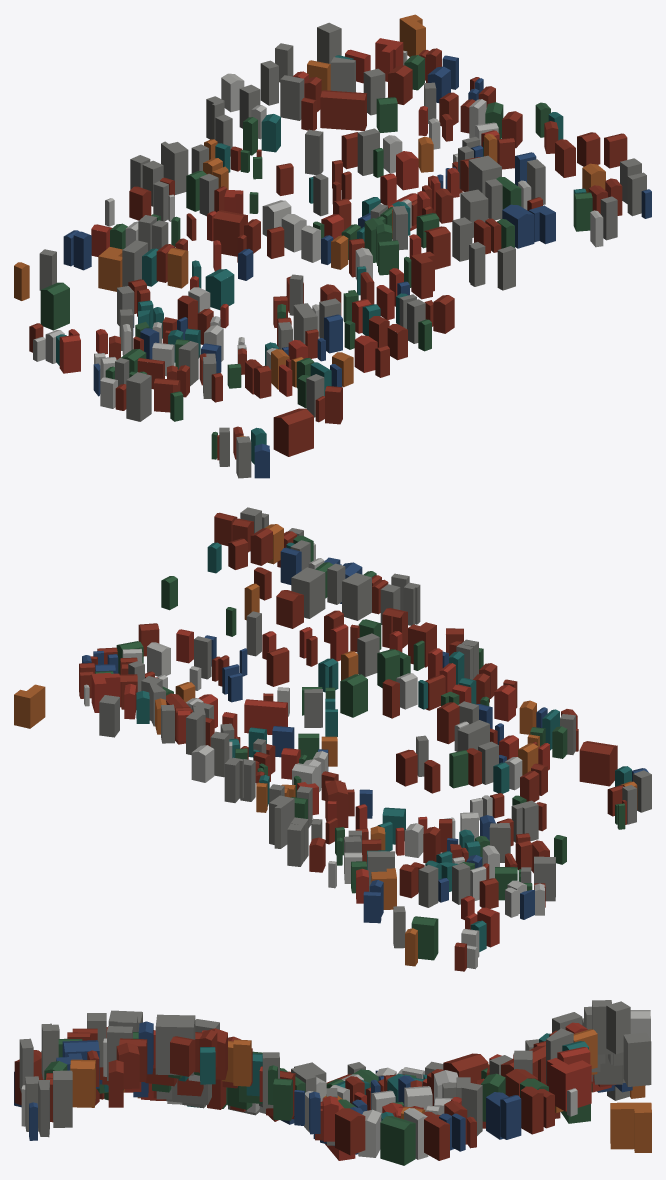
Rendered from near-17-109429-59476.a6c33109.glb.
3 views of the same model, one above another, from view 1: azimuth 30°, elevation 25°; view 2: azimuth 150°, elevation 25°; view 3: azimuth 270°, elevation 25° (orthographic). The views are drawn at different scales.
Size of the model in its own units: 303 by 165 by 303.
